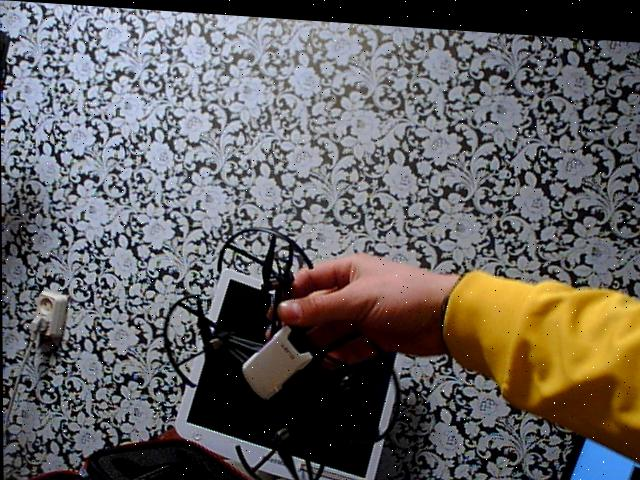drone: (152, 212, 404, 480)
